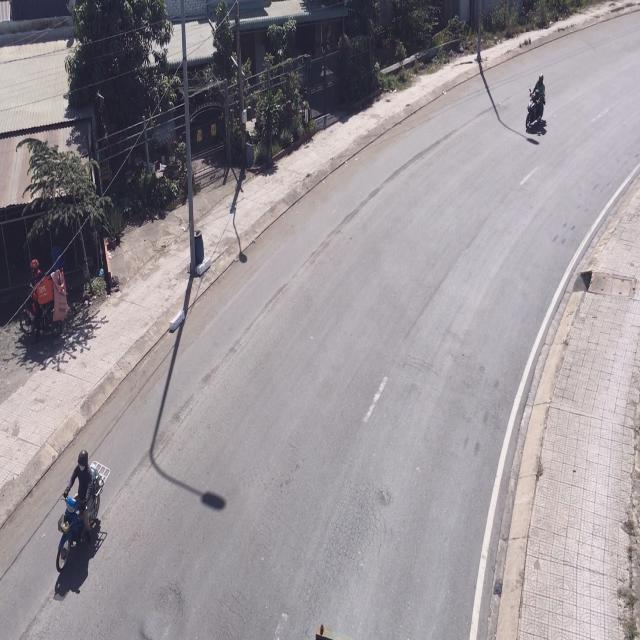motorbike: (57, 448, 103, 578), (528, 75, 552, 144)
